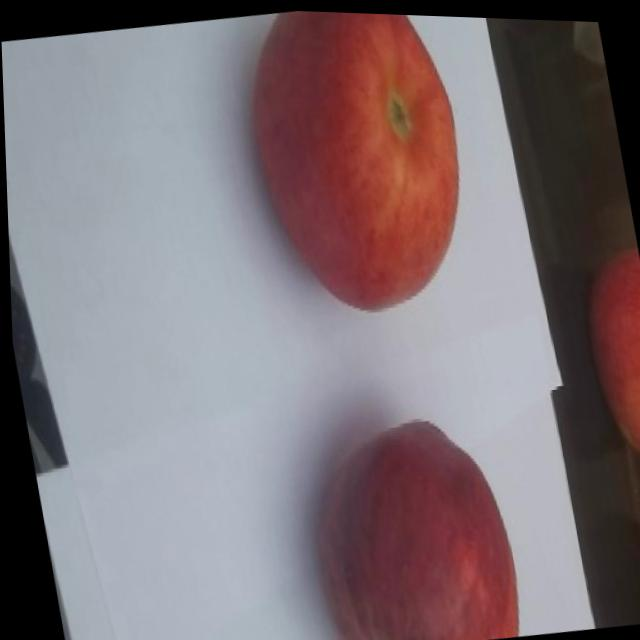Apple: (220, 6, 491, 329), (290, 403, 527, 640), (559, 238, 640, 482), (629, 509, 640, 618)
